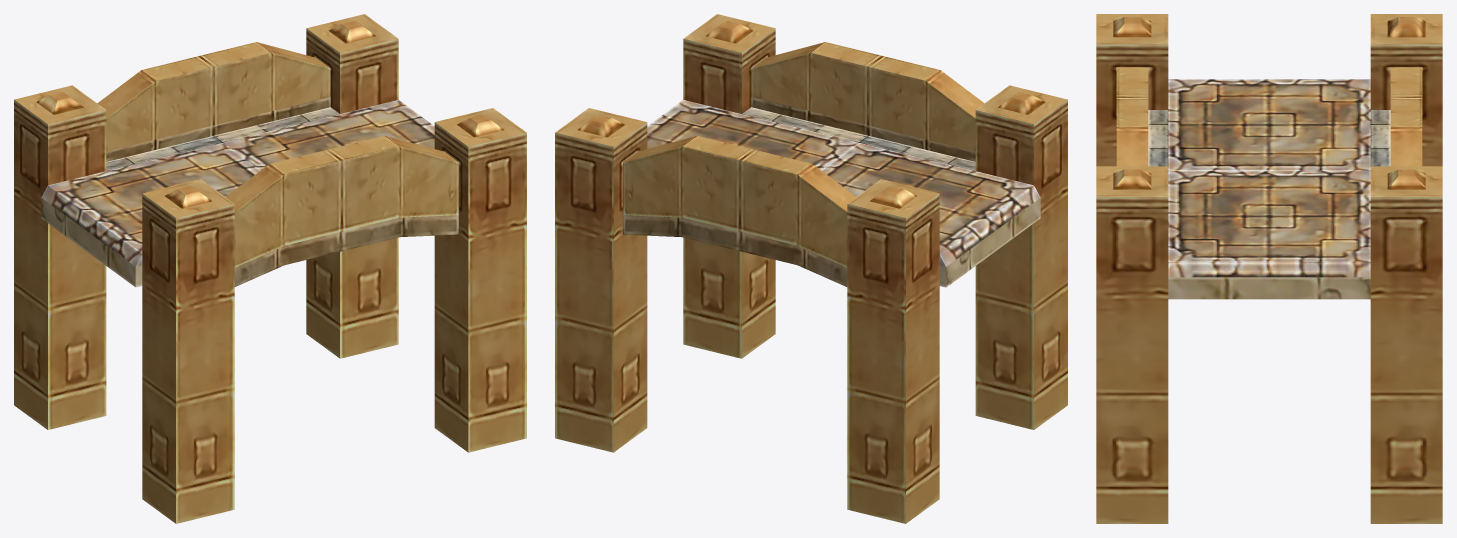
Rendered from DesertTown - bridge2_HD.fbx.
3 views of the same model, side by side, from view 1: azimuth 30°, elevation 25°; view 2: azimuth 150°, elevation 25°; view 3: azimuth 270°, elevation 25° (orthographic). The views are drawn at different scales.
Parts seen in each view (by area): view 1: DesertTown_bridge2; view 2: DesertTown_bridge2; view 3: DesertTown_bridge2.
Part boxes in pixels (x1,y1,x2,y2): DesertTown_bridge2: (14,14,526,523); DesertTown_bridge2: (555,14,1067,523); DesertTown_bridge2: (1096,14,1442,523).
Bounding box in the file's own units: 3.11 × 2.57 × 2.4.
